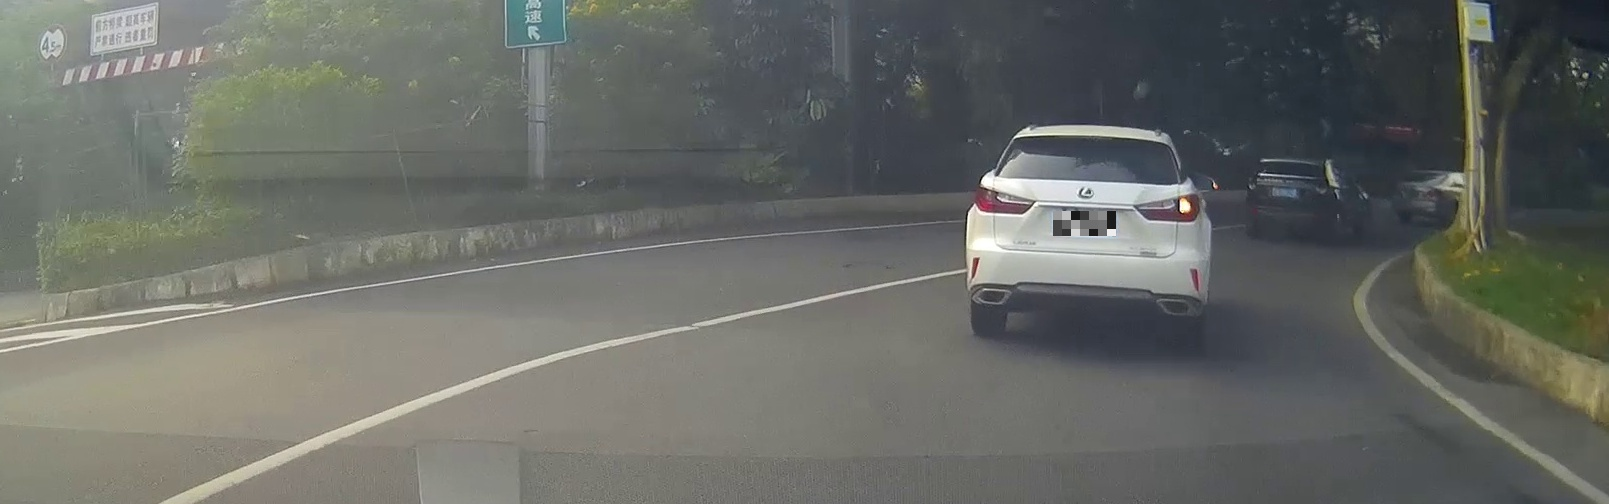L_light: (975, 185, 1037, 216)
R_light: (1133, 192, 1201, 223)
T_light: (1076, 131, 1111, 142)
day-right: (965, 124, 1209, 350)
plate_1: (1053, 211, 1116, 236)
